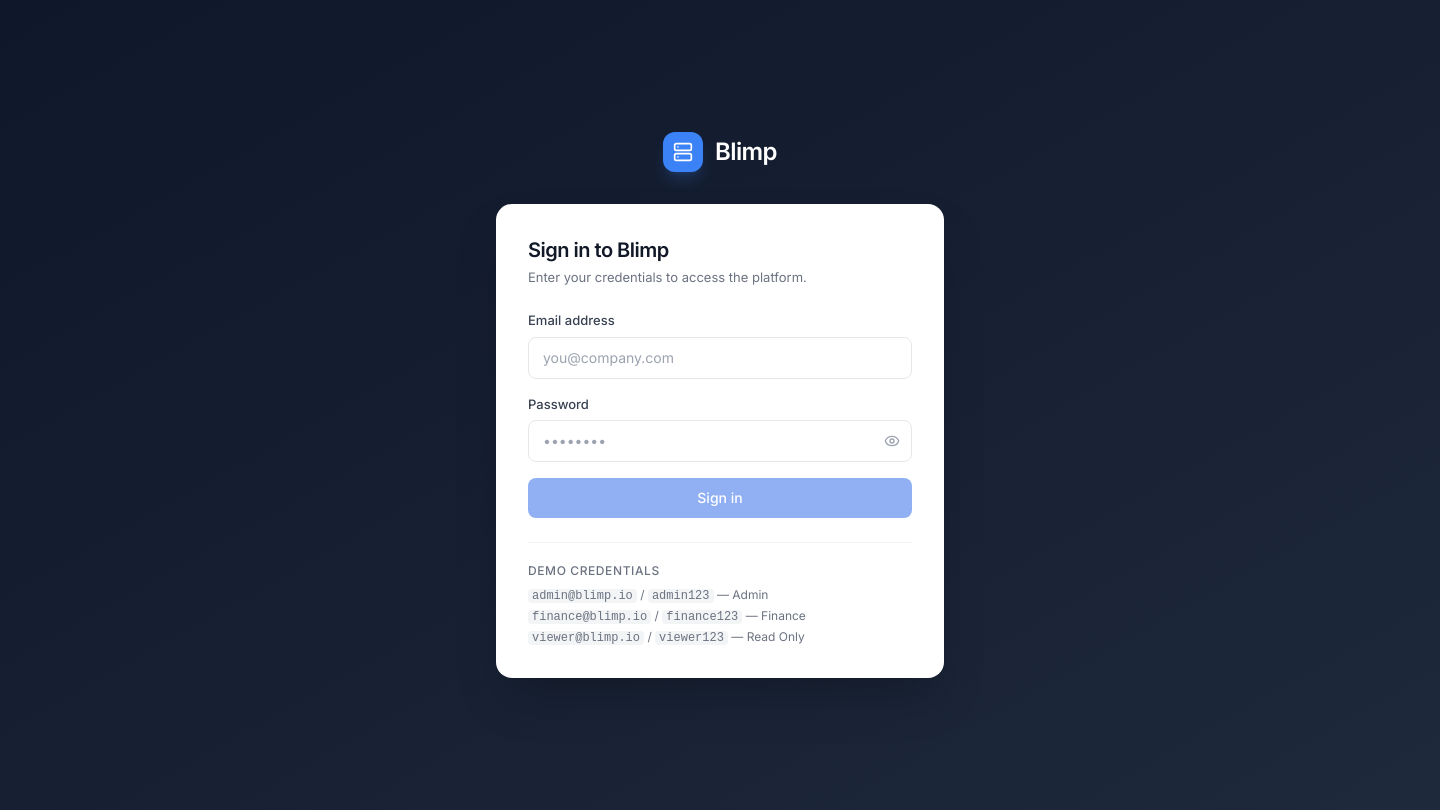
Test: Login page › error handling › displays an error alert when login returns ok: false
This screenshot has width=1440, height=810.
Step 1. Type "admin@blimp.io" into the field with id "email" → coordinates (720, 358), box 528,337 -> 912,379
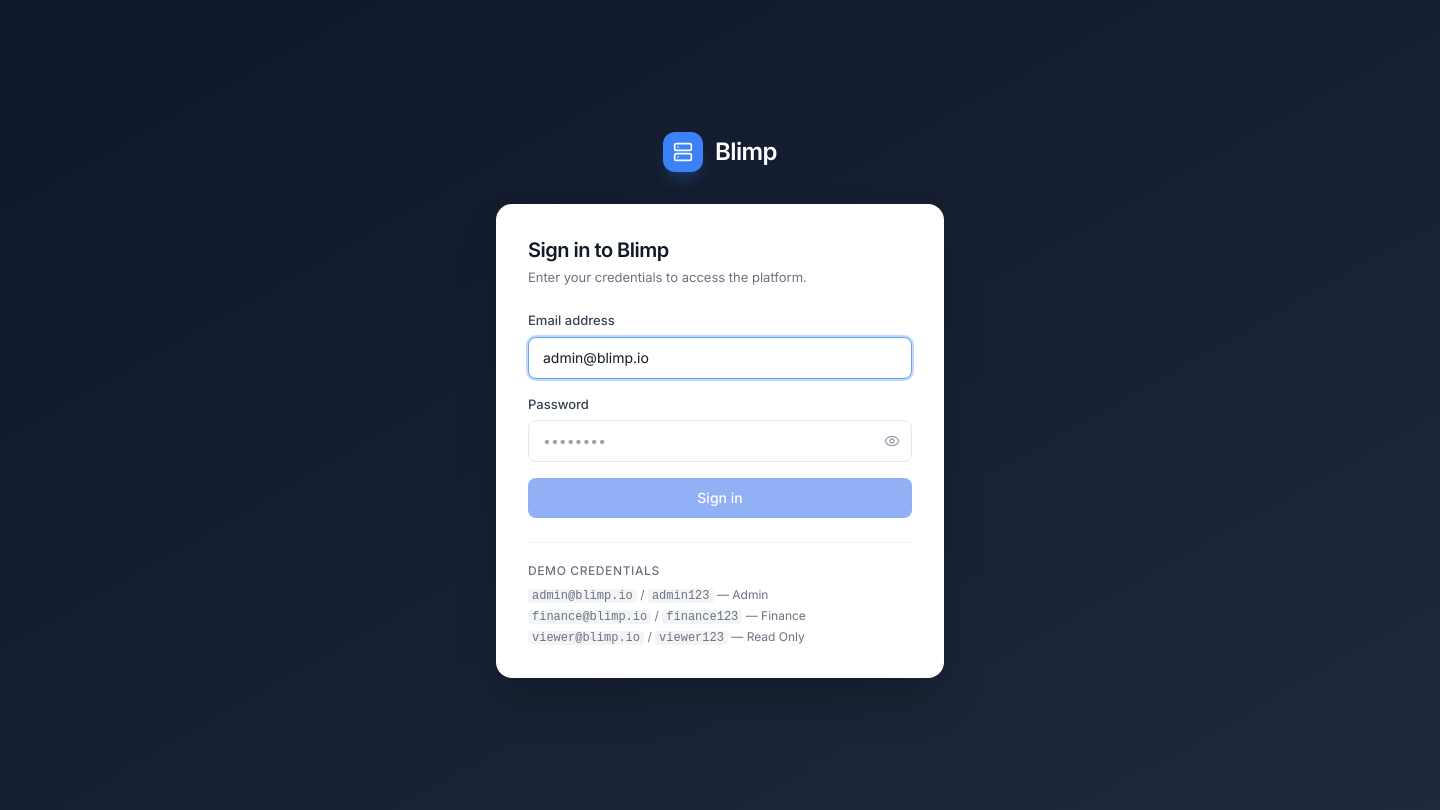
Step 2. Type "wrongpassword" into the password field labelled "Password" → coordinates (720, 441), box 528,420 -> 912,462
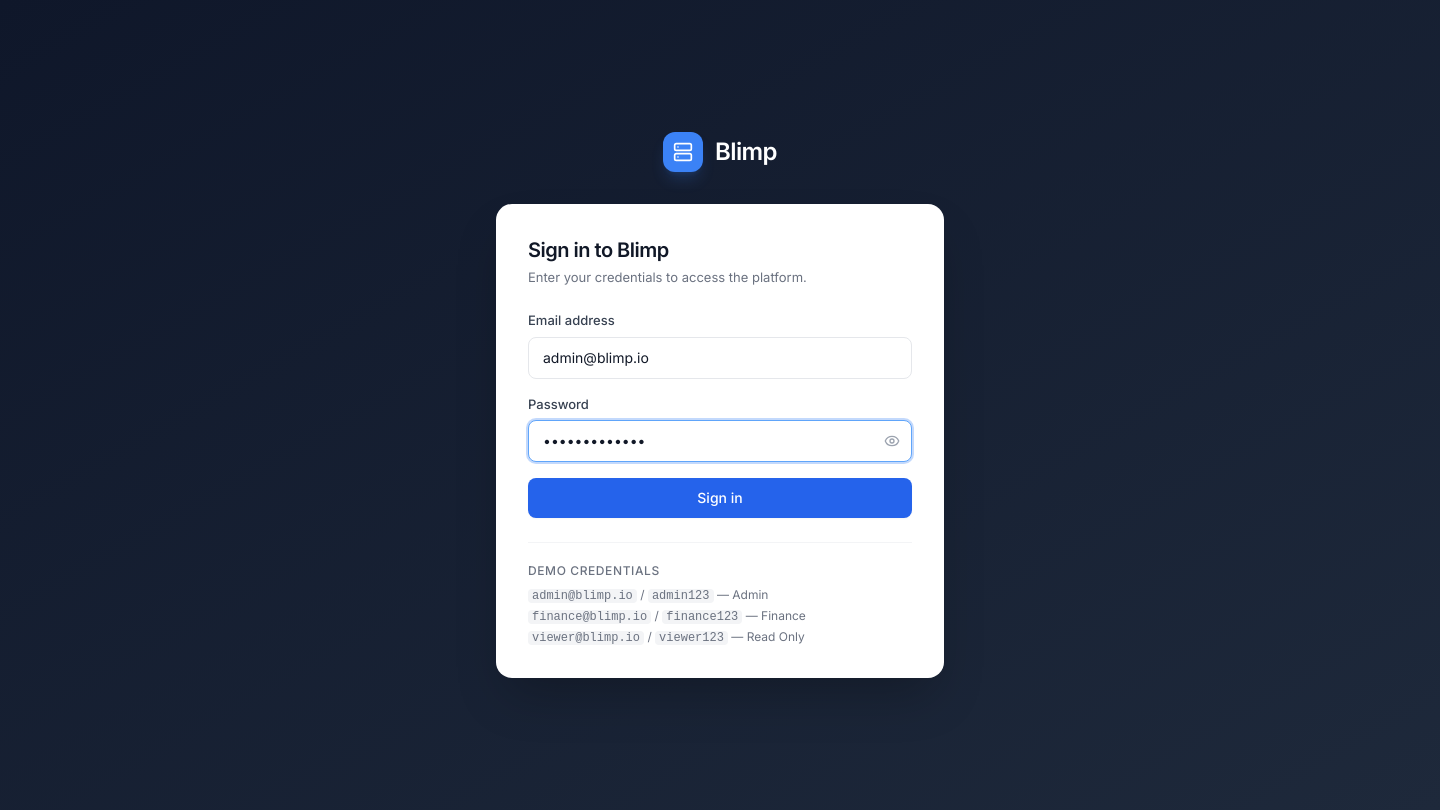
Step 3. Click the button "Sign in" → coordinates (720, 498), box 528,478 -> 912,518
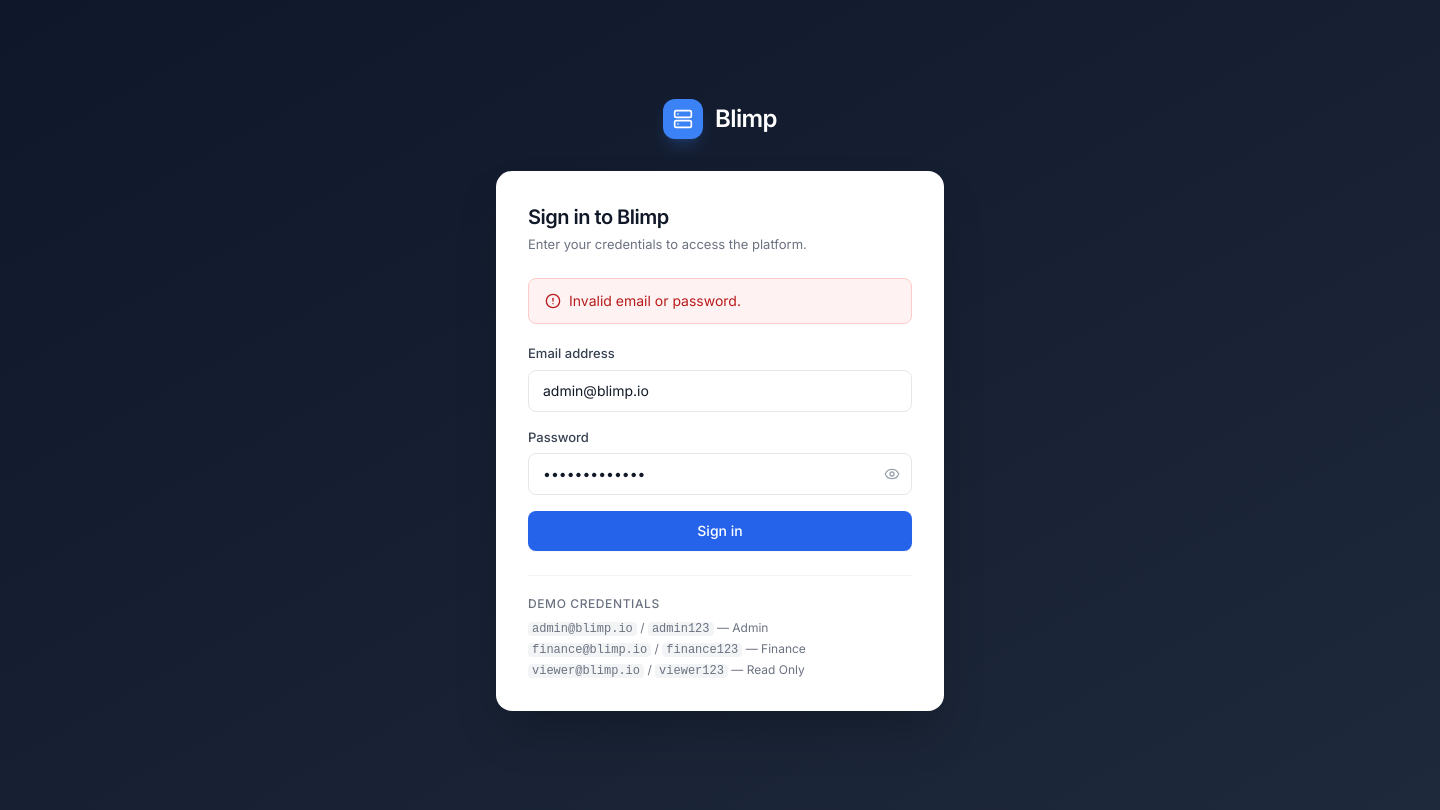
Now the message "Invalid email or password." is shown, box 528,278 -> 912,324
Now the message shows "Invalid email or password", box 569,292 -> 741,309
